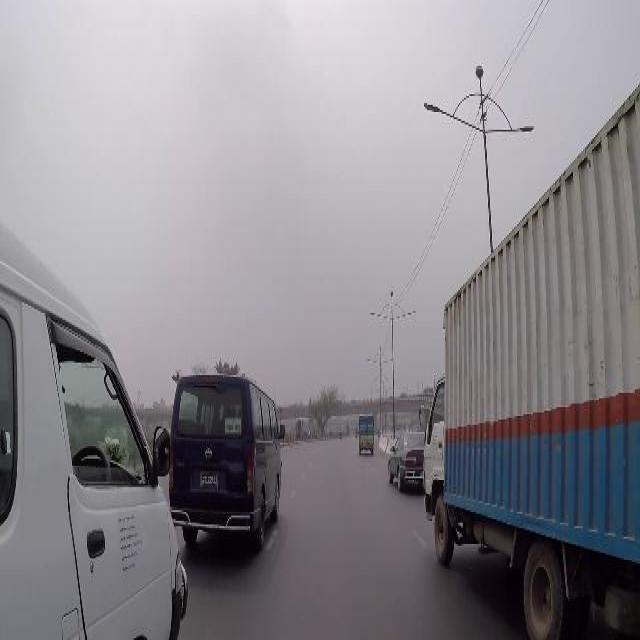vehicle: (423, 72, 640, 630), (2, 215, 188, 640), (169, 367, 287, 552), (388, 426, 425, 493), (359, 414, 375, 456)
